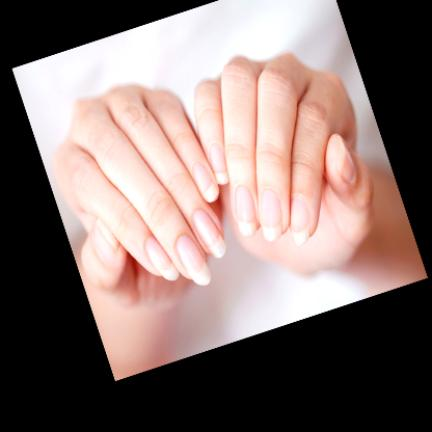Nail: (177, 235, 211, 286), (193, 210, 227, 258), (145, 235, 179, 281), (93, 218, 119, 262), (235, 186, 257, 236), (261, 190, 282, 242), (192, 163, 219, 203), (290, 195, 310, 245), (336, 136, 356, 182), (210, 145, 229, 184)
